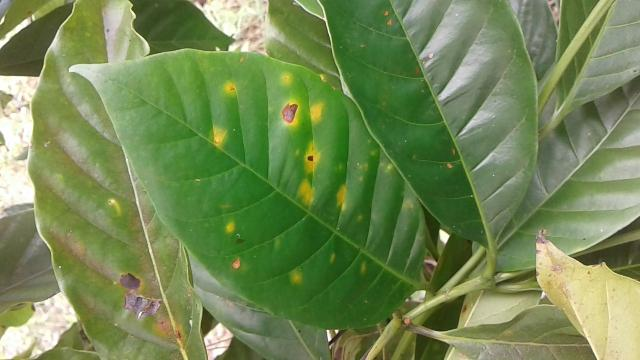rust_level_2: (77, 54, 425, 330)
